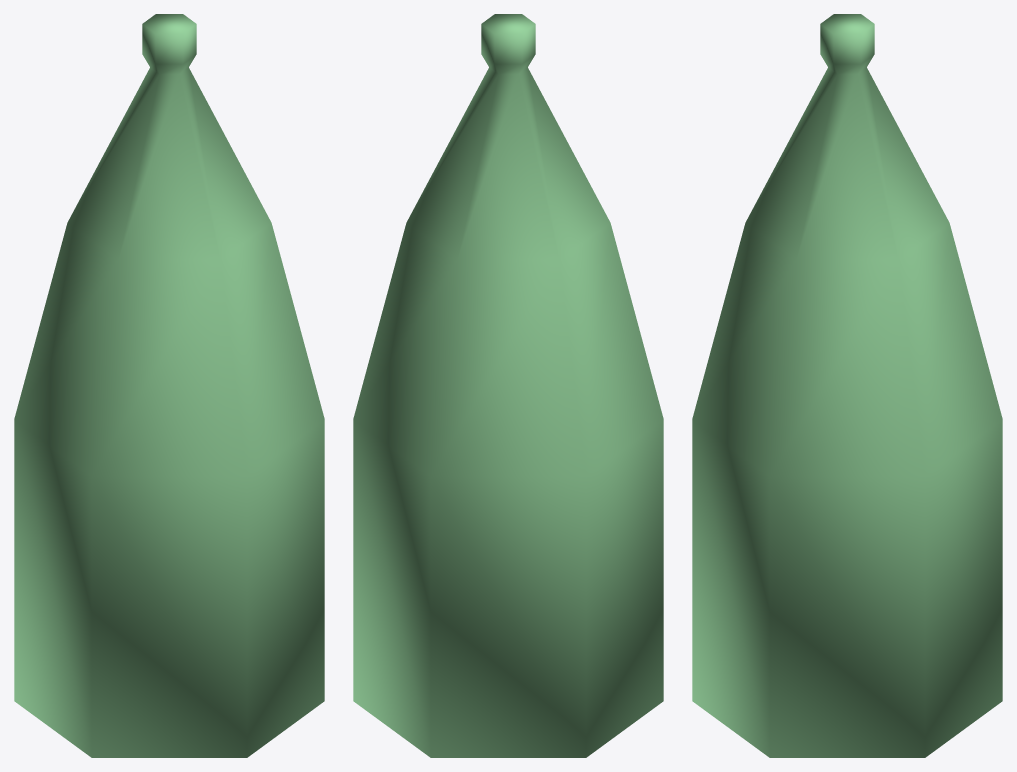
File: drink_bottle_green.fbx
3 views of the same model, side by side, from view 1: azimuth 30°, elevation 25°; view 2: azimuth 150°, elevation 25°; view 3: azimuth 270°, elevation 25° (orthographic).
Visible parts, largest first — view 1: Cylinder; view 2: Cylinder; view 3: Cylinder.
Boxes of the visible parts, box(x1,y1,x2,y2) form: Cylinder: box(14, 14, 324, 757); Cylinder: box(353, 14, 663, 757); Cylinder: box(692, 14, 1002, 757).
Bounding box in the file's own units: 173 × 481 × 200.
